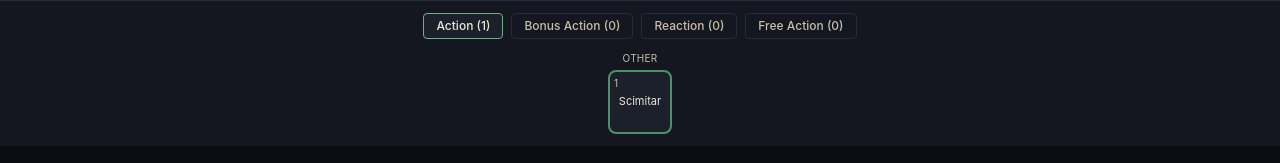
Test: ActionHotbar › switching tabs clears the selected slot
Click the button titled "Scimitar".
click(640, 102)  # box x1=608 y1=70 x2=672 y2=134
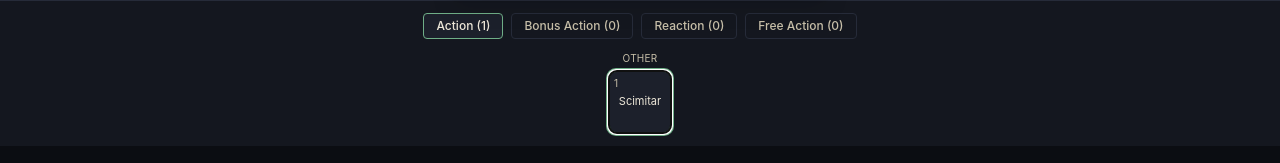
Click the button "Bonus Action (0)".
click(572, 26)  # box x1=511 y1=13 x2=633 y2=39
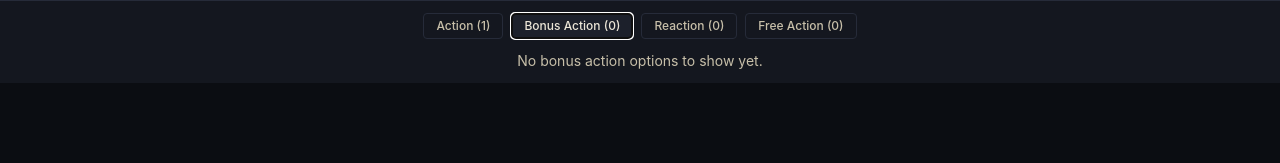
Expected: the text "Melee Weapon Attack: +5 to hit." is gone
